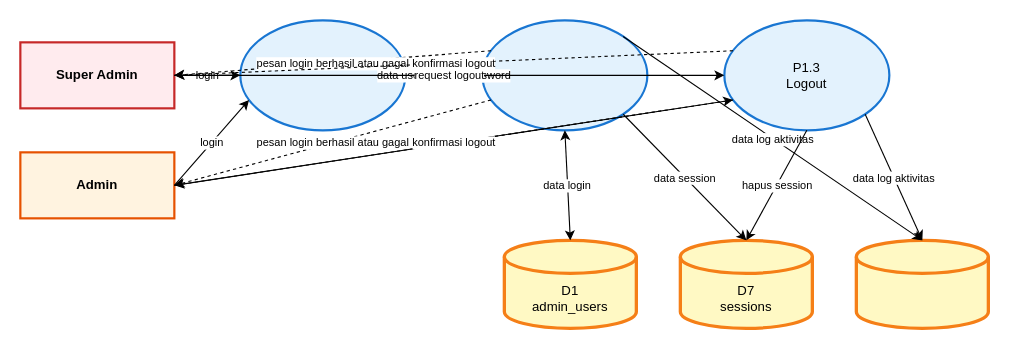
Image size: 1009x349. Some labels were removed from this diagram. Each missing label, with the centre of its shape:
"D6 activity_logs" belongs at [921,283].
"P1.1 Masukkan Username & Password" belongs at [322,75].
"P1.2 Verifikasi User" belongs at [564,75].
